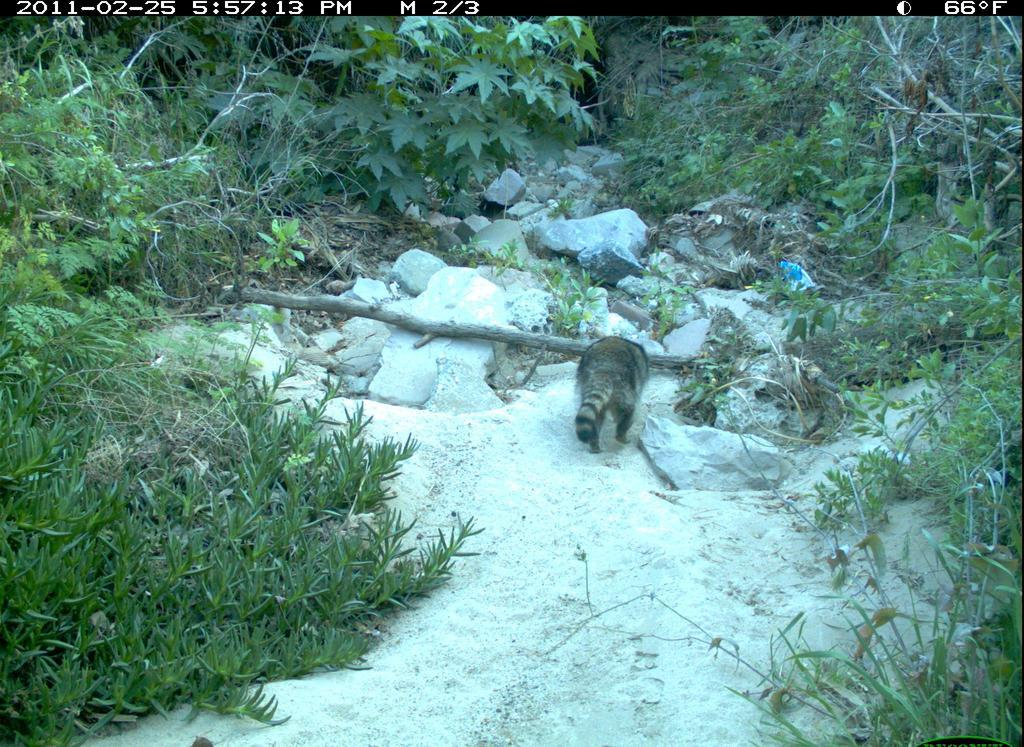raccoon: (557, 324, 658, 464)
